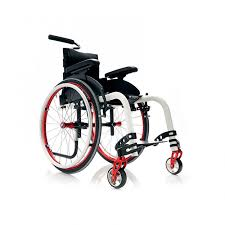wheelchair: (35, 33, 187, 193)
